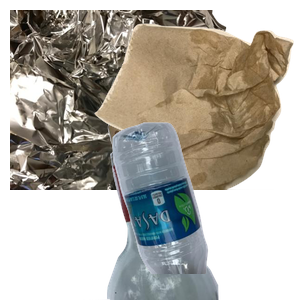glass: (83, 120, 294, 300)
metal: (10, 10, 229, 190)
plastic: (110, 120, 300, 300)
trash: (92, 21, 300, 201)
